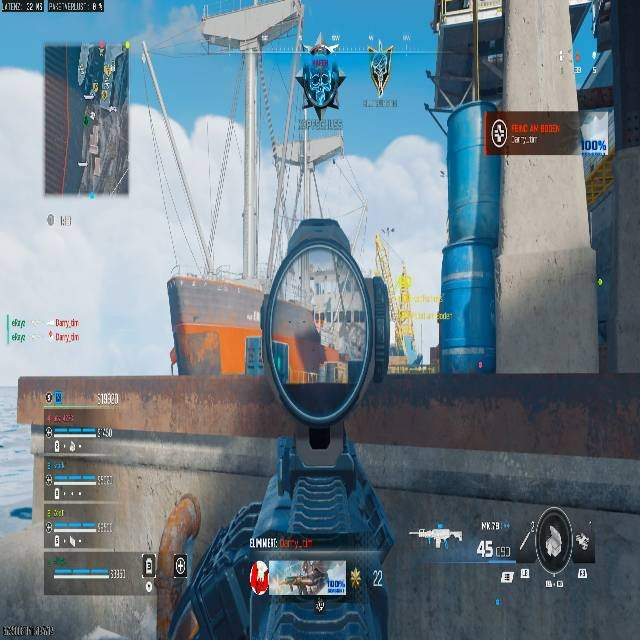player: (295, 46, 346, 120), (367, 41, 389, 96)
